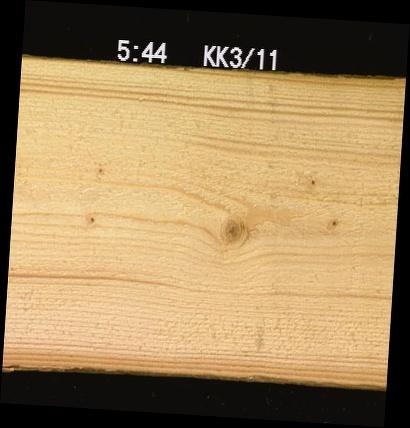small_knot: (95, 165, 104, 174), (87, 214, 96, 223), (309, 178, 315, 185)
sound_knot: (222, 217, 243, 247), (324, 214, 339, 230)
